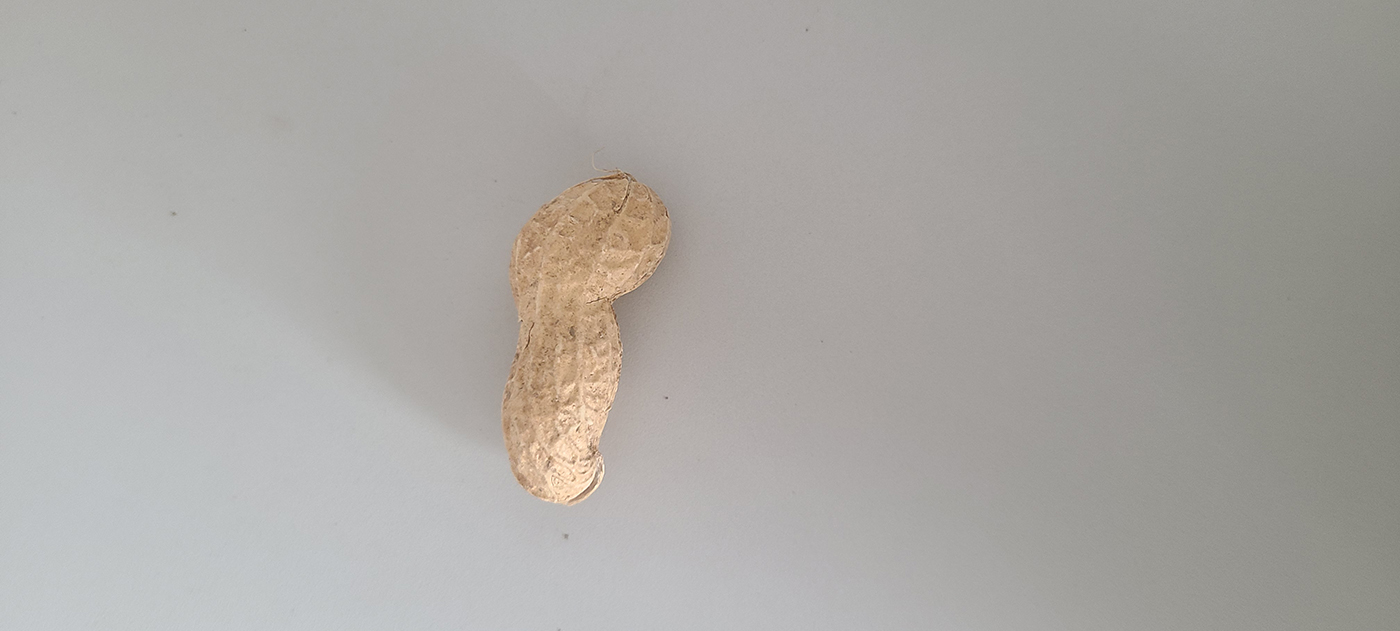h: (502, 170, 674, 509)
